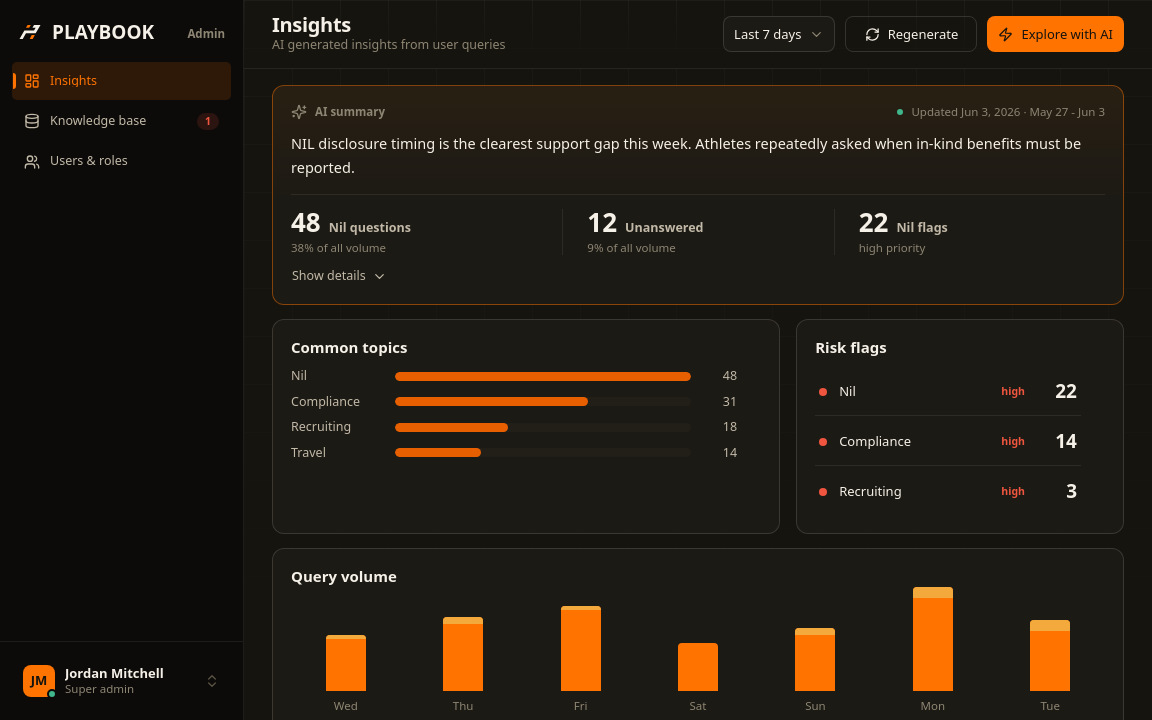
Test case: AdminShell › greys out Explore with AI while the analytics chat side panel is open
The image size is (1152, 720).
Click the button "Explore with AI" at [1056, 34], box [988,16,1124,52]
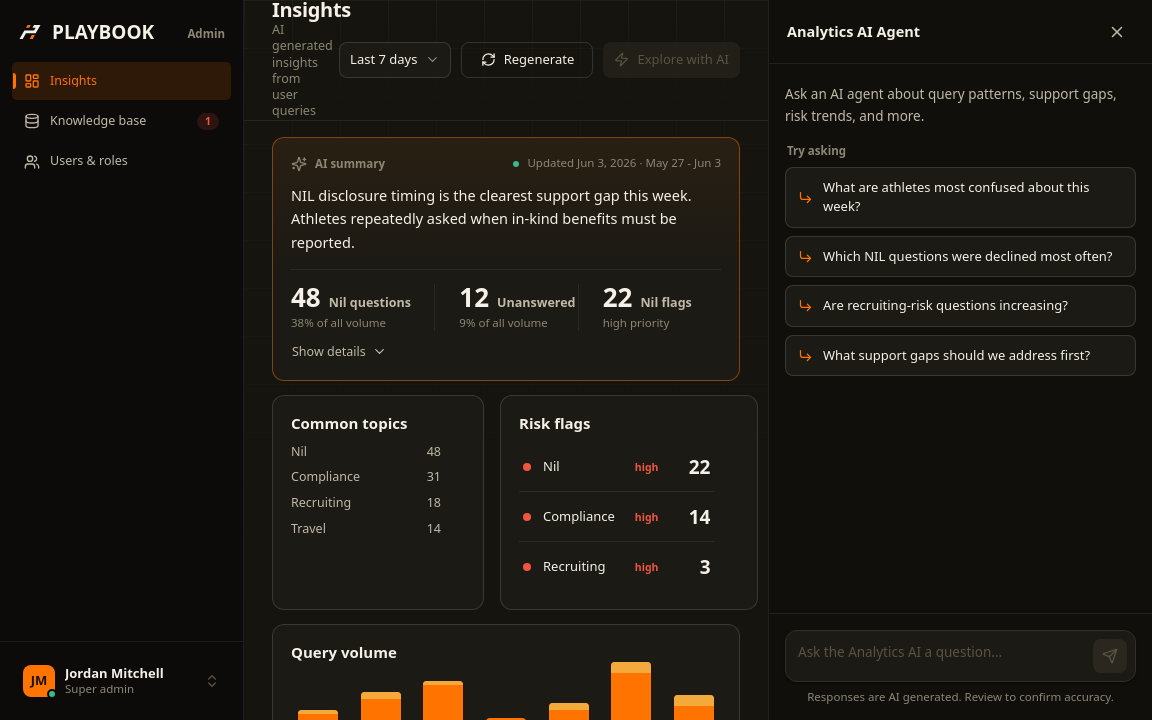
Expected: the element "Analytics AI Agent" is shown, [768,0,1151,719]
Expected: the button "Explore with AI" is disabled, [604,42,740,78]
Click the button named "Close analytics chat" at [1117, 32], box [1100,14,1134,48]
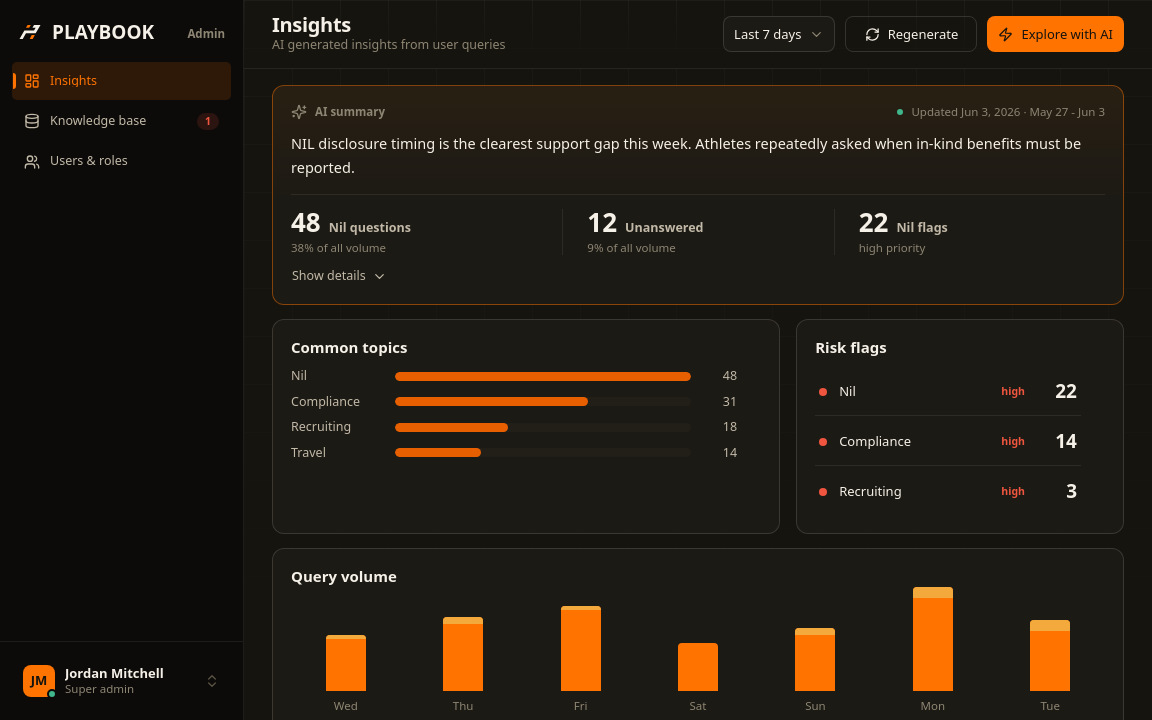
Expected: the heading "Analytics AI Agent" is gone
Expected: the button "Explore with AI" is enabled, [988,16,1124,52]
